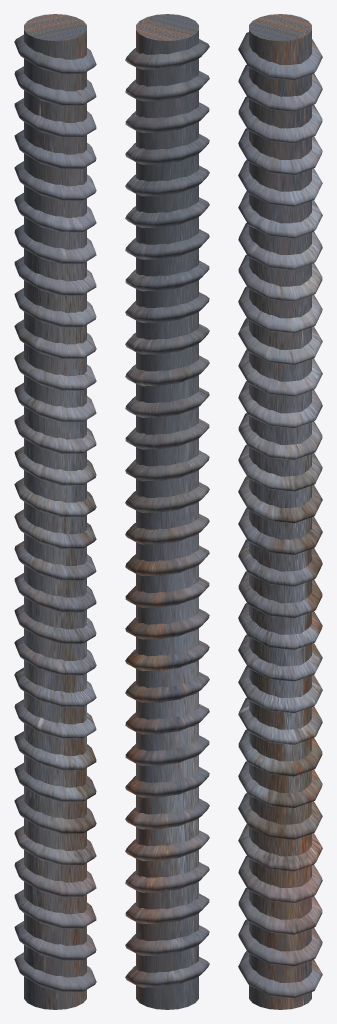
The model's file is tekkin_usami.fbx.
3 views of the same model, side by side, from view 1: azimuth 30°, elevation 25°; view 2: azimuth 150°, elevation 25°; view 3: azimuth 330°, elevation 25° (orthographic).
Visible parts, largest first — view 1: tekkin; view 2: tekkin; view 3: tekkin.
Part boxes in pixels (x1=…): tekkin: x1=14, y1=14, x2=96, y2=1009; tekkin: x1=125, y1=14, x2=209, y2=1009; tekkin: x1=238, y1=14, x2=322, y2=1009.
Bounding box in the file's own units: 3.9 × 50 × 3.85.
2 materials, 2 textured.
